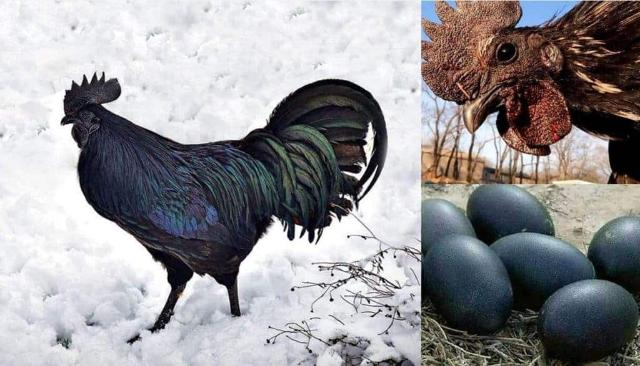Chicken: (60, 70, 388, 333), (419, 0, 640, 185)
